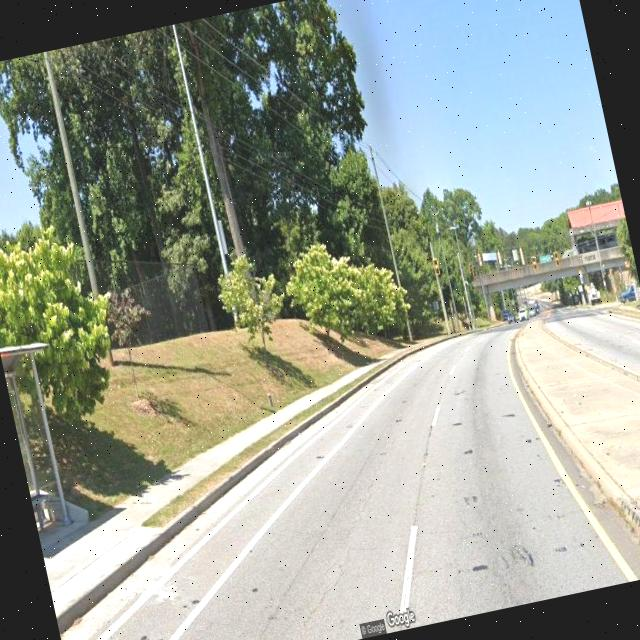seating: (30, 488, 56, 532)
shelter: (0, 334, 90, 550)
